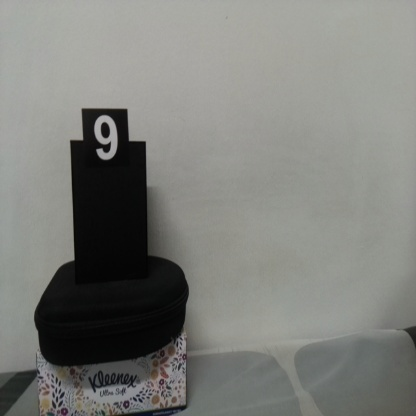id_9: (82, 109, 128, 180)
